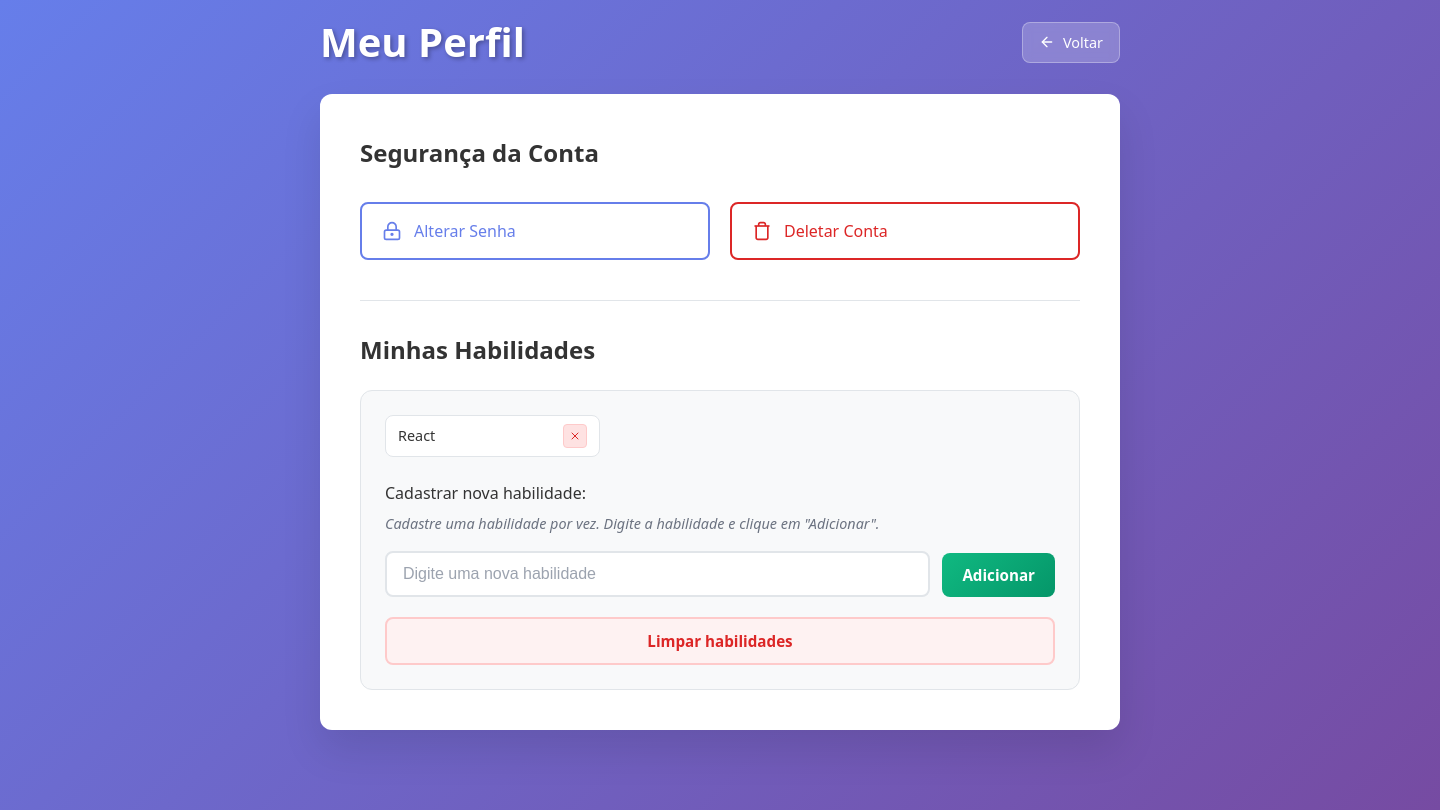
Test: Profile - Skills Auto Focus › previne adicionar habilidade duplicada
The image size is (1440, 810).
Type "React" into the field with placeholder "Digite uma nova habilidade" at point(658, 574), box [385,550,930,596]
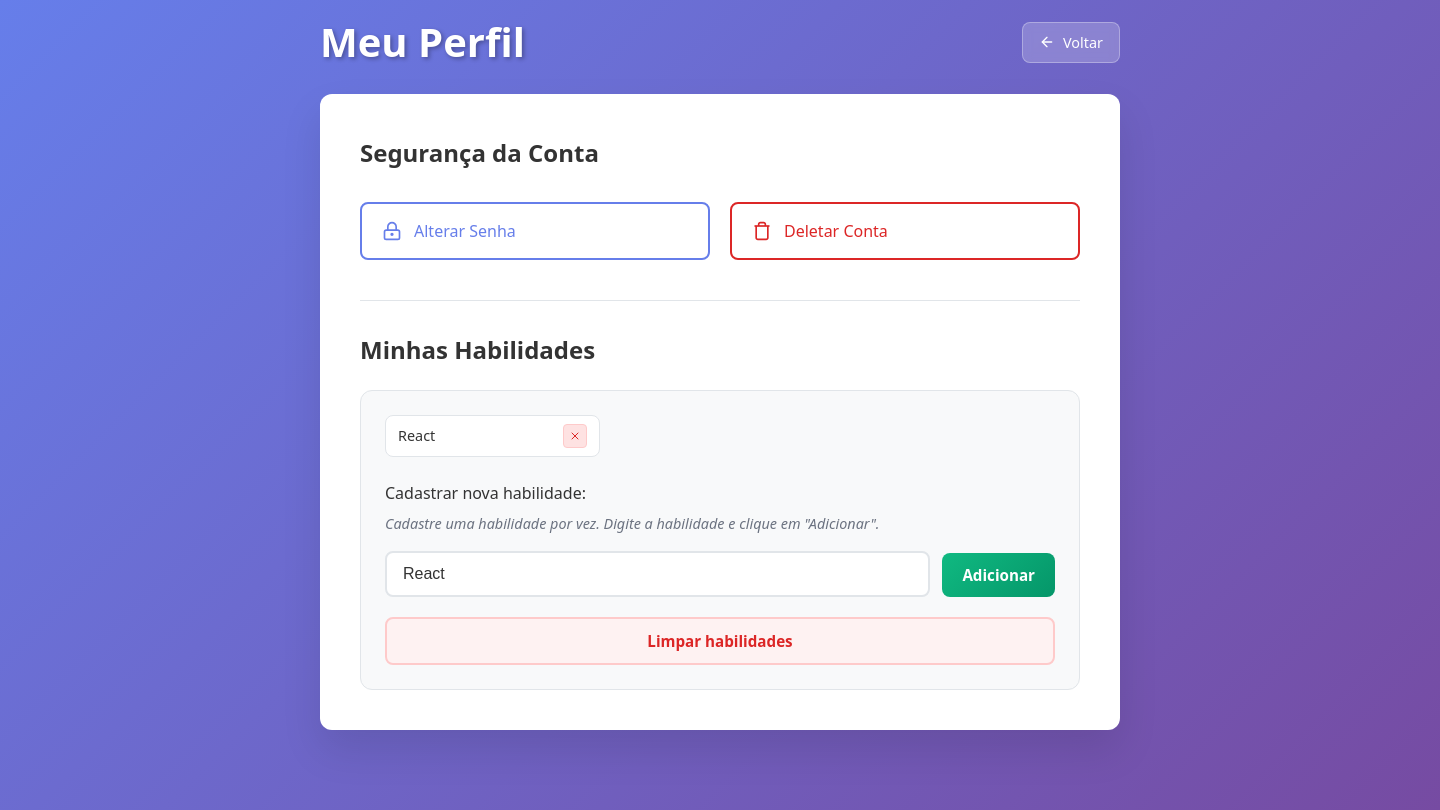
Click the button "Adicionar" at point(999, 574), box [942,552,1055,596]
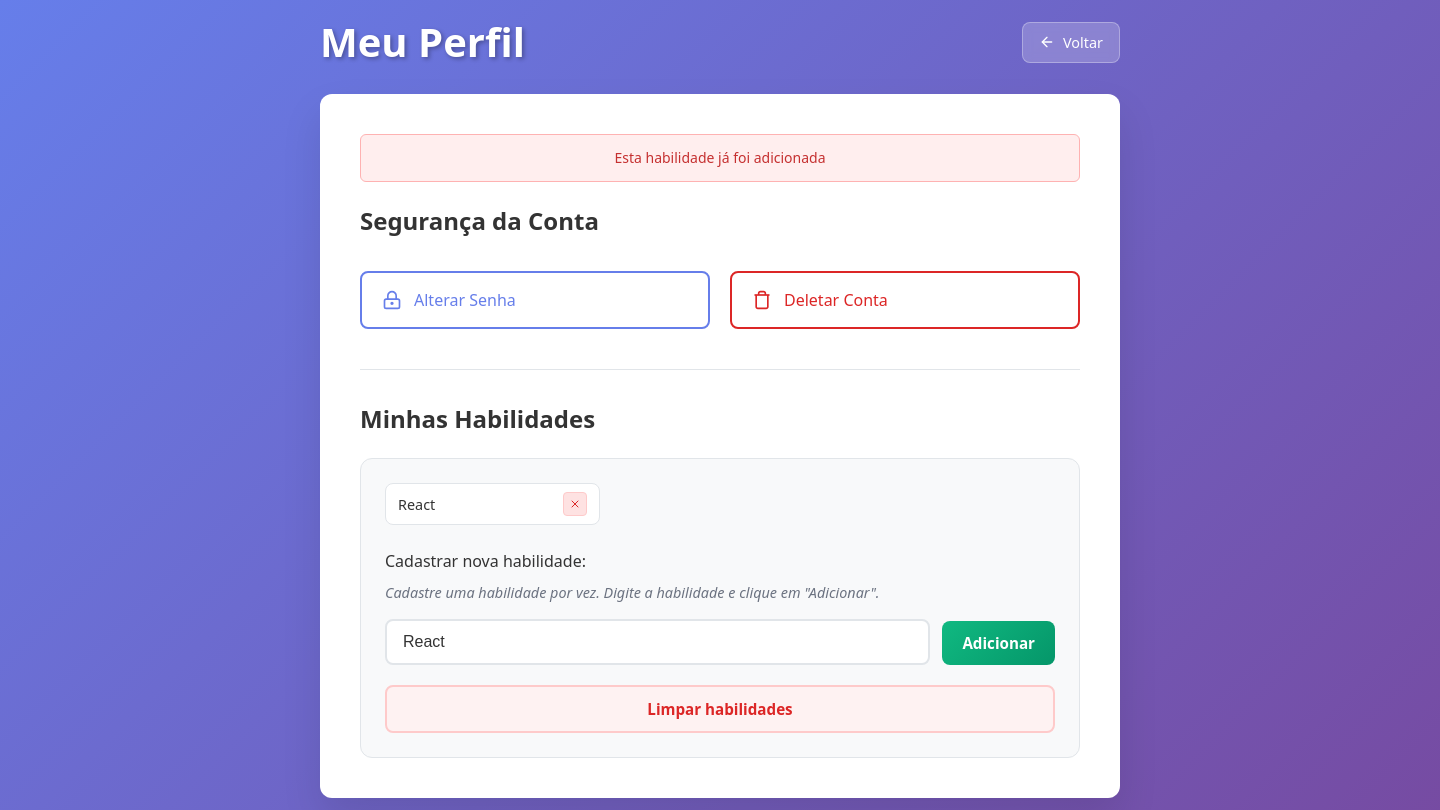
Expected: the text "Esta habilidade já foi adicionada" is shown, [360,134,1080,182]
